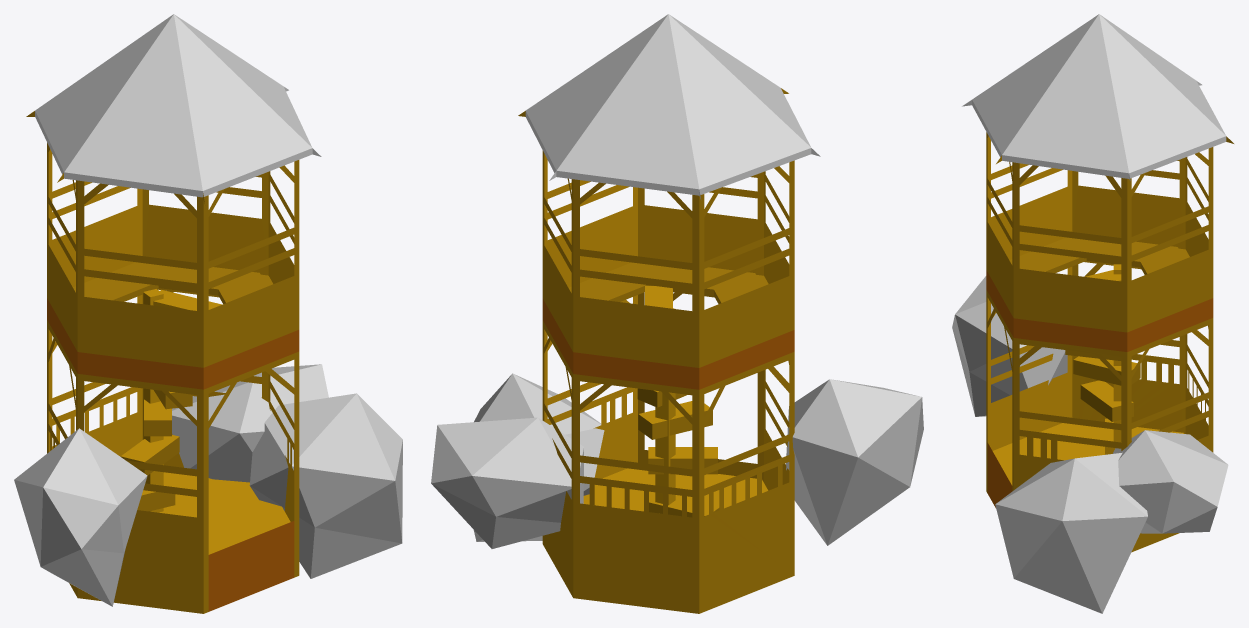
The model's file is WinterHouse.gltf.
The picture shows the model from 3 angles, left to right: view 1: azimuth 30°, elevation 25°; view 2: azimuth 150°, elevation 25°; view 3: azimuth 270°, elevation 25°; orthographic projection. The views are drawn at different scales.
Parts seen in each view (by area): view 1: Mesh186_SummerHouse2_1_Component_5_1_Component_2_1_Model; view 2: Mesh186_SummerHouse2_1_Component_5_1_Component_2_1_Model; view 3: Mesh186_SummerHouse2_1_Component_5_1_Component_2_1_Model.
Part boxes in pixels (x1,y1,x2,y2): Mesh186_SummerHouse2_1_Component_5_1_Component_2_1_Model: (14,14,402,613); Mesh186_SummerHouse2_1_Component_5_1_Component_2_1_Model: (431,14,923,613); Mesh186_SummerHouse2_1_Component_5_1_Component_2_1_Model: (952,14,1233,613).
Size of the model in its own units: 1500 by 2050 by 1018.
